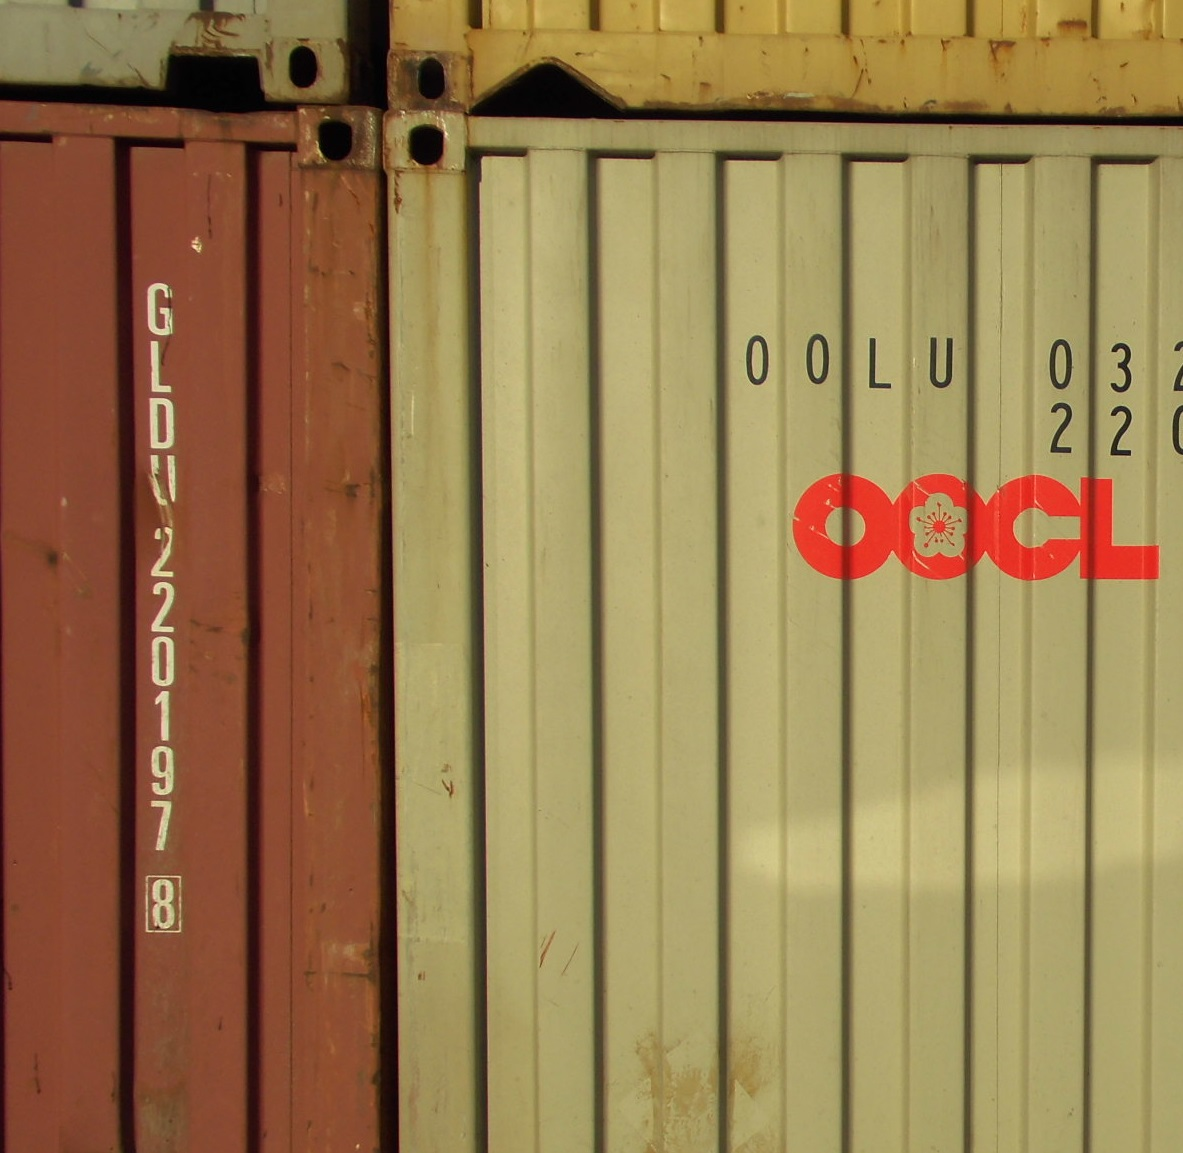container_no_door: (382, 105, 1176, 1153), (3, 103, 377, 1152)
